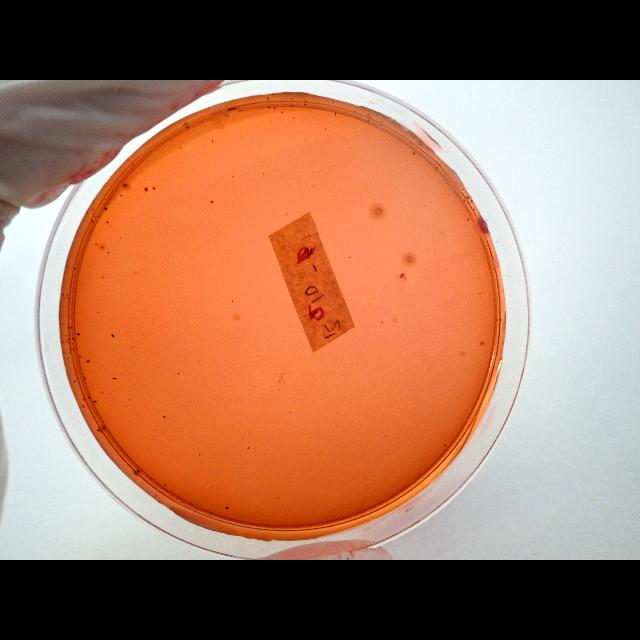colony: (398, 272, 406, 280), (122, 182, 130, 188), (144, 186, 148, 192), (90, 218, 94, 224), (111, 333, 115, 339), (86, 358, 90, 364), (136, 468, 140, 474), (134, 270, 138, 276), (276, 495, 280, 501), (210, 200, 214, 204), (152, 186, 156, 190), (120, 194, 124, 198), (104, 206, 108, 210), (100, 245, 104, 249), (95, 242, 99, 246), (62, 296, 66, 300), (81, 404, 85, 408), (128, 398, 132, 402), (198, 452, 202, 456), (134, 472, 138, 476), (225, 506, 229, 510), (480, 342, 484, 346), (412, 152, 416, 156), (432, 163, 436, 167), (272, 106, 276, 110), (292, 116, 296, 120), (184, 121, 188, 125), (384, 434, 388, 438), (100, 391, 104, 395), (105, 220, 108, 224), (84, 376, 86, 382), (112, 378, 118, 380), (162, 415, 165, 419), (366, 113, 369, 117), (212, 138, 214, 144), (185, 125, 189, 128), (108, 225, 112, 228), (247, 446, 250, 450), (288, 411, 292, 414), (180, 144, 182, 150), (466, 197, 469, 200), (93, 208, 95, 212), (107, 251, 109, 255), (74, 267, 76, 271), (62, 292, 64, 296), (78, 332, 80, 336), (71, 326, 73, 330), (68, 326, 70, 330), (59, 322, 61, 326), (72, 337, 74, 341), (79, 354, 81, 358), (74, 379, 76, 383), (94, 400, 96, 404), (88, 396, 92, 398), (82, 398, 86, 400), (154, 428, 156, 432), (163, 484, 167, 486), (444, 443, 446, 447), (467, 217, 469, 221), (435, 168, 437, 172), (419, 142, 421, 146), (368, 119, 370, 123), (334, 112, 336, 116), (332, 100, 334, 104), (291, 104, 293, 108), (281, 110, 283, 114), (268, 105, 270, 109), (272, 92, 274, 96), (266, 98, 270, 100), (86, 210, 88, 214), (97, 214, 99, 218), (100, 276, 104, 278), (178, 372, 180, 376), (232, 174, 234, 178), (263, 172, 265, 176), (348, 255, 350, 259), (61, 341, 63, 344), (66, 341, 68, 344), (436, 167, 438, 170), (381, 321, 383, 324), (66, 294, 68, 296), (97, 312, 99, 314), (68, 352, 70, 354), (66, 334, 68, 336), (68, 338, 70, 340), (496, 319, 498, 321), (473, 208, 475, 210), (471, 200, 473, 202), (463, 188, 465, 190), (423, 205, 425, 207), (354, 110, 356, 112), (325, 128, 327, 130), (304, 104, 306, 106), (291, 98, 293, 100), (94, 216, 96, 218), (120, 236, 122, 238), (468, 202, 468, 204)
